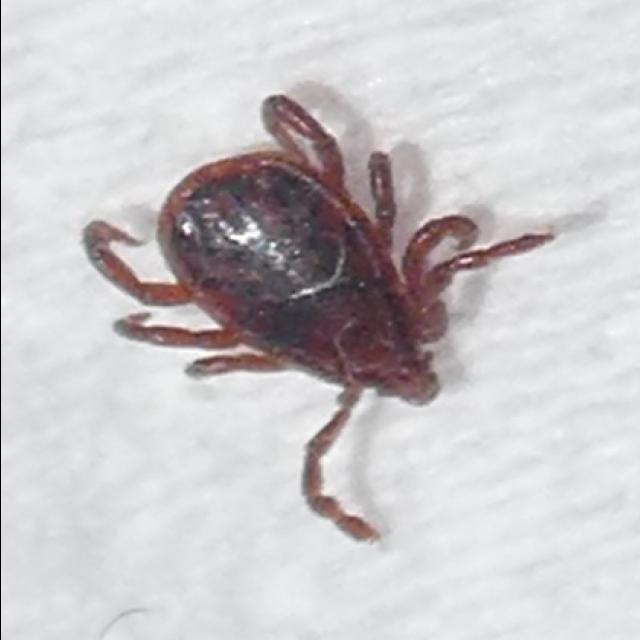Rhipicephalus Sanguineus-M: (82, 92, 556, 544)
